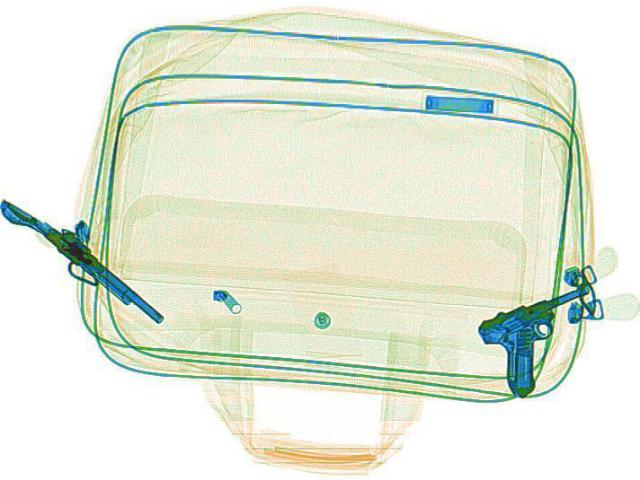Gun: (0, 200, 164, 332), (462, 281, 638, 394)
